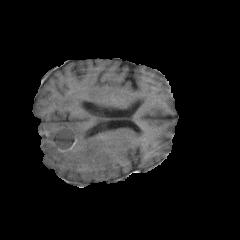glioma: (38, 97, 143, 180)
